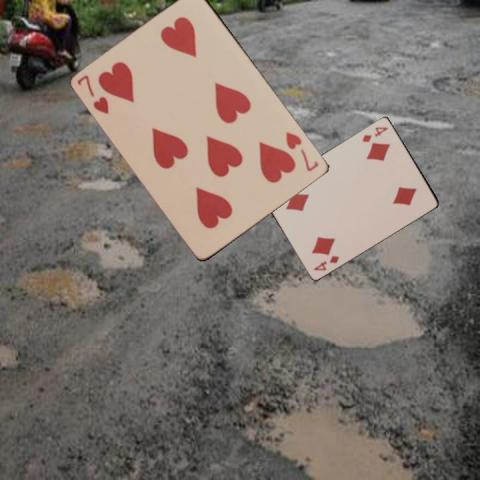4d: (359, 124, 389, 144), (310, 253, 340, 272)
7h: (74, 71, 111, 116), (283, 129, 320, 173)
